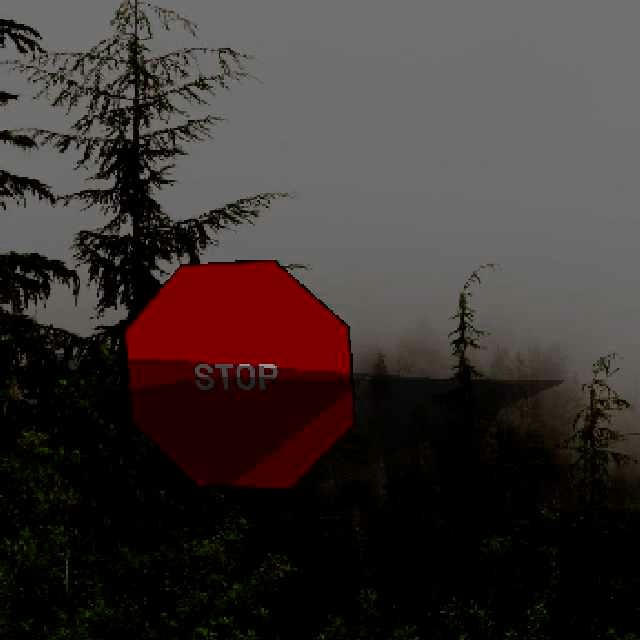STOP: (122, 258, 355, 489)
